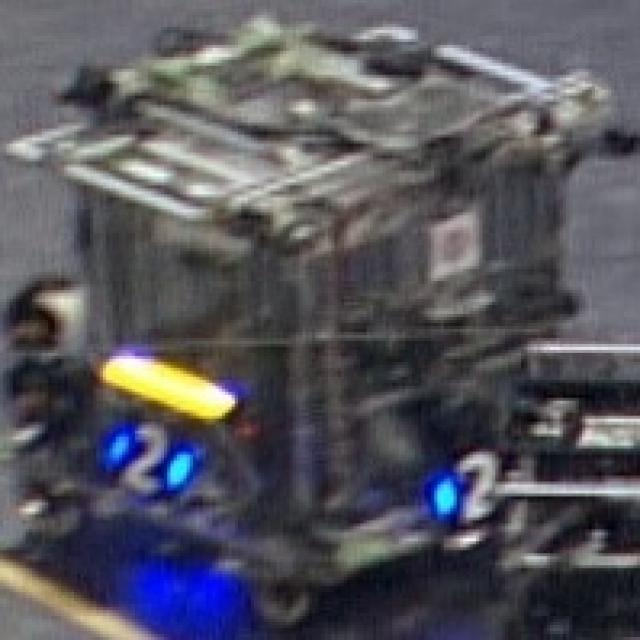B2: (420, 443, 529, 526), (95, 410, 191, 499)
